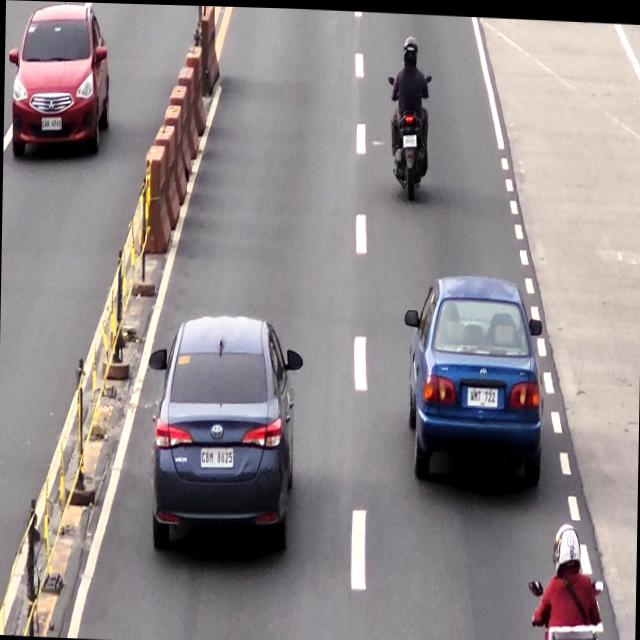Car: (156, 312, 294, 537), (411, 277, 544, 481)
License-Plate: (465, 380, 499, 406), (198, 443, 234, 467)
Motorcycle: (539, 523, 600, 640), (389, 34, 430, 199)
